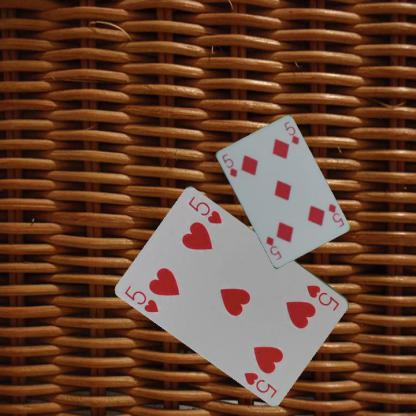5d: (325, 200, 345, 229), (219, 151, 239, 178)
5h: (122, 283, 161, 314), (304, 282, 341, 312)
